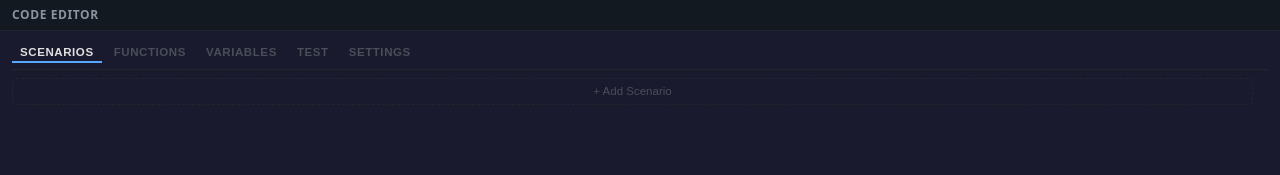
variable type handling › should render hex input for hex type variables
Step 1. Click the button "Variables" → (241, 53), box [198,43,285,63]
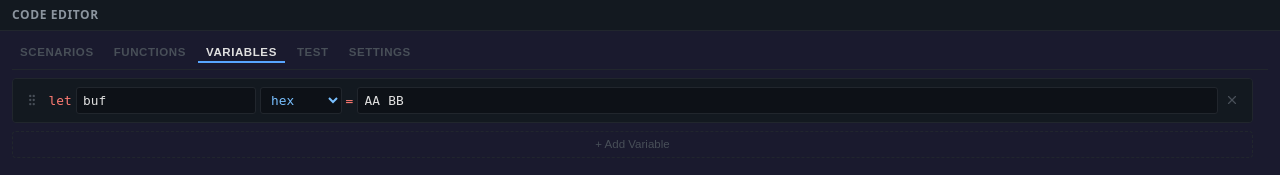
Now the field with class "hex-input" is shown, box [357,87,1218,114]
